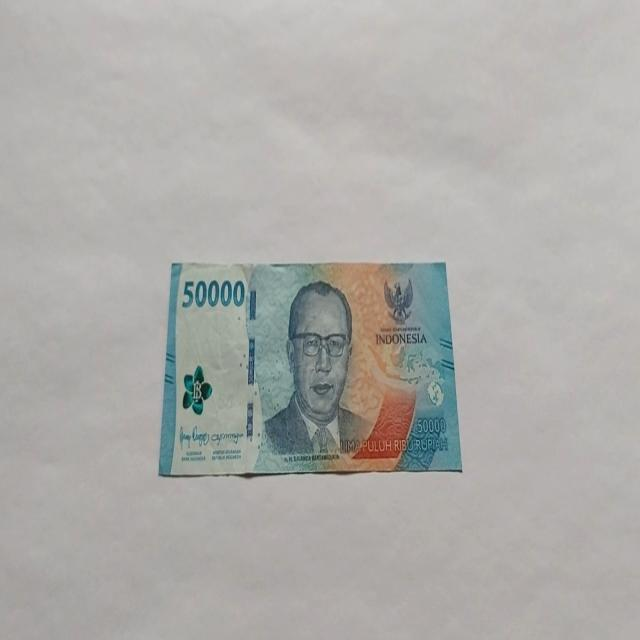lima puluh ribu rupiah: (158, 258, 462, 478), (259, 278, 375, 462)
